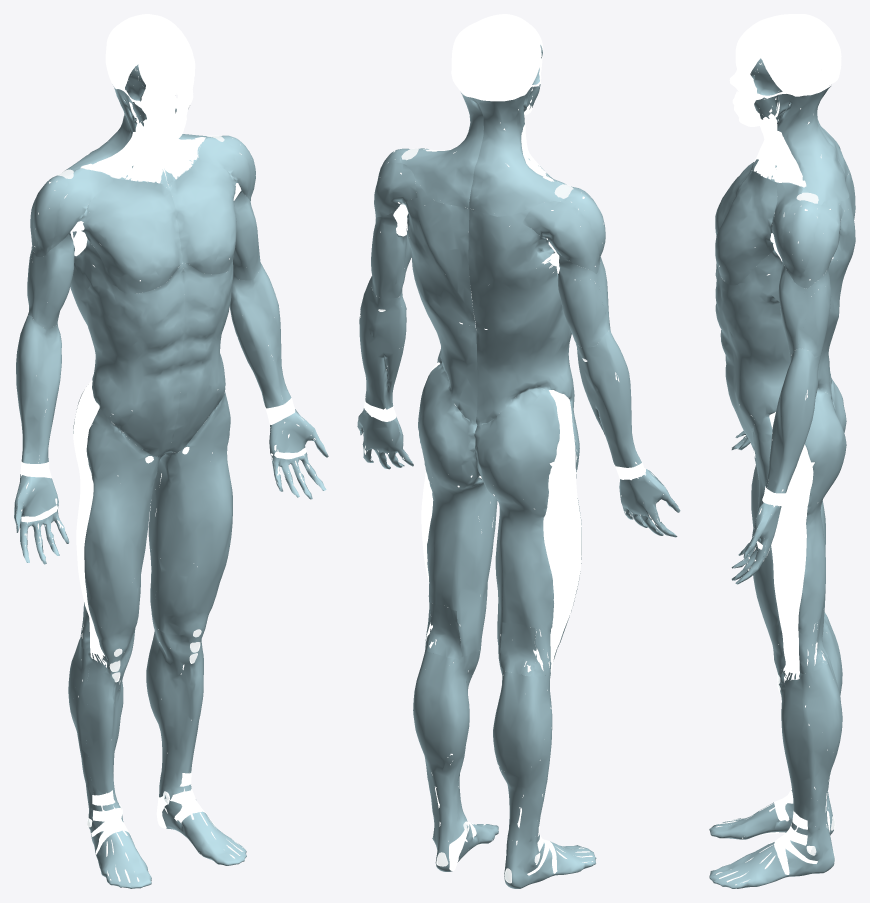
Rendered from muscles.glb.
3 views of the same model, side by side, from view 1: azimuth 30°, elevation 25°; view 2: azimuth 150°, elevation 25°; view 3: azimuth 270°, elevation 25° (orthographic). The views are drawn at different scales.
Visible parts, largest first — view 1: Investing abdominal fascia.r, Fascia lata.l, Fascia lata.r, Crural fascia.l, Crural fascia.r, Pectoral fascia.r, Investing abdominal fascia.l, Pectoral fascia.l, Antebrachial fascia.r, Antebrachial fascia.l, Deltoid fascia.r, Brachial fascia.r (+13 smaller); view 2: Investing abdominal fascia.r, Fascia lata.r, Fascia lata.l, Crural fascia.r, Investing abdominal fascia.l, Crural fascia.l, Superficial investing cervical fascia.r, Iliotibial tract.r, Antebrachial fascia.r, Antebrachial fascia.l, Deltoid fascia.r, Superficial investing cervical fascia.l (+11 smaller); view 3: Investing abdominal fascia.l, Crural fascia.l, Fascia lata.l, Iliotibial tract.l, Deltoid fascia.l, Pectoral fascia.l, Superficial investing cervical fascia.l, Antebrachial fascia.l, Brachial fascia.l, Epicranial aponeurosis.l, Crural fascia.r, Temporoparietalis muscle.l (+13 smaller).
Boxes of the visible parts, left/top/right/bottom form: Investing abdominal fascia.r: left=70, top=239, right=184, bottom=456; Fascia lata.l: left=148, top=391, right=232, bottom=637; Fascia lata.r: left=73, top=391, right=165, bottom=658; Crural fascia.l: left=146, top=621, right=246, bottom=865; Crural fascia.r: left=68, top=637, right=151, bottom=888; Pectoral fascia.r: left=78, top=178, right=182, bottom=294; Investing abdominal fascia.l: left=167, top=262, right=233, bottom=452; Pectoral fascia.l: left=168, top=158, right=237, bottom=274; Antebrachial fascia.r: left=16, top=315, right=61, bottom=463; Antebrachial fascia.l: left=230, top=262, right=291, bottom=408; Deltoid fascia.r: left=30, top=169, right=113, bottom=257; Brachial fascia.r: left=27, top=232, right=74, bottom=329; Investing abdominal fascia.r: left=468, top=206, right=574, bottom=425; Fascia lata.r: left=474, top=389, right=581, bottom=677; Fascia lata.l: left=418, top=363, right=497, bottom=656; Crural fascia.r: left=493, top=665, right=596, bottom=888; Investing abdominal fascia.l: left=401, top=177, right=477, bottom=424; Crural fascia.l: left=413, top=649, right=498, bottom=871; Superficial investing cervical fascia.r: left=469, top=86, right=571, bottom=216; Iliotibial tract.r: left=543, top=390, right=581, bottom=676; Antebrachial fascia.r: left=576, top=329, right=641, bottom=467; Antebrachial fascia.l: left=359, top=276, right=406, bottom=409; Deltoid fascia.r: left=522, top=173, right=605, bottom=273; Superficial investing cervical fascia.l: left=400, top=93, right=483, bottom=208; Investing abdominal fascia.l: left=715, top=194, right=855, bottom=447; Crural fascia.l: left=709, top=656, right=842, bottom=888; Fascia lata.l: left=752, top=388, right=846, bottom=673; Iliotibial tract.l: left=769, top=412, right=813, bottom=682; Deltoid fascia.l: left=772, top=182, right=844, bottom=288; Pectoral fascia.l: left=715, top=171, right=777, bottom=285; Superficial investing cervical fascia.l: left=753, top=86, right=849, bottom=205; Antebrachial fascia.l: left=765, top=348, right=821, bottom=493; Brachial fascia.l: left=778, top=260, right=831, bottom=357; Epicranial aponeurosis.l: left=739, top=18, right=841, bottom=77; Crural fascia.r: left=709, top=617, right=842, bottom=839; Temporoparietalis muscle.l: left=760, top=46, right=822, bottom=96.
Size of the model in its own units: 0.6713 by 1.7 by 0.2687.
